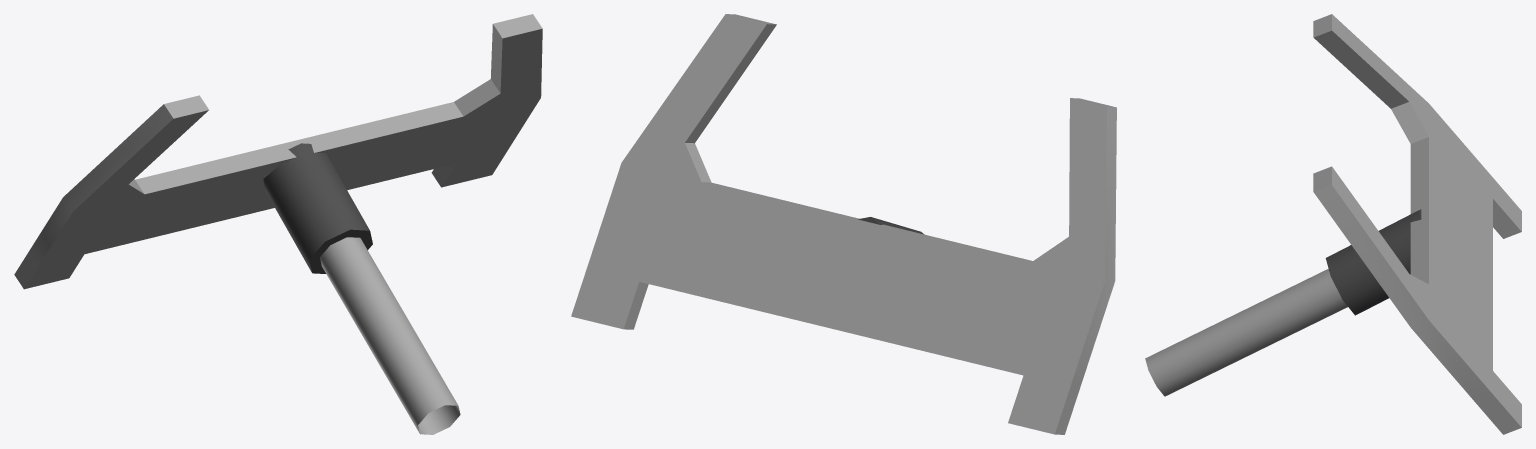
Rendered from Steering.fbx.
3 renders of one model, left to right at view 1: azimuth 30°, elevation 25°; view 2: azimuth 150°, elevation 25°; view 3: azimuth 270°, elevation 25°, orthographic. The views are drawn at different scales.
Visible parts, largest first — view 1: Steering; view 2: Steering; view 3: Steering.
Boxes of the visible parts, box(x1,y1,x2,y2) form: Steering: box(14, 14, 542, 434); Steering: box(571, 14, 1116, 434); Steering: box(1145, 14, 1521, 434).
Size of the model in its own units: 22.03 by 14.04 by 16.17.
